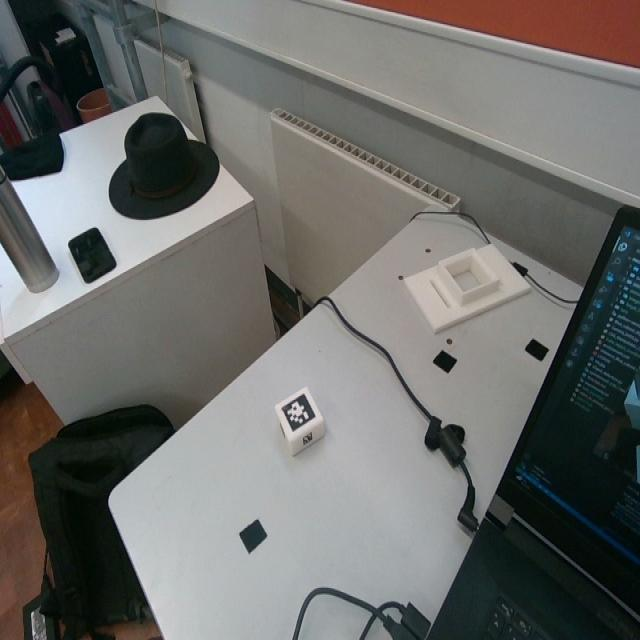Cube: (273, 386, 324, 462)
